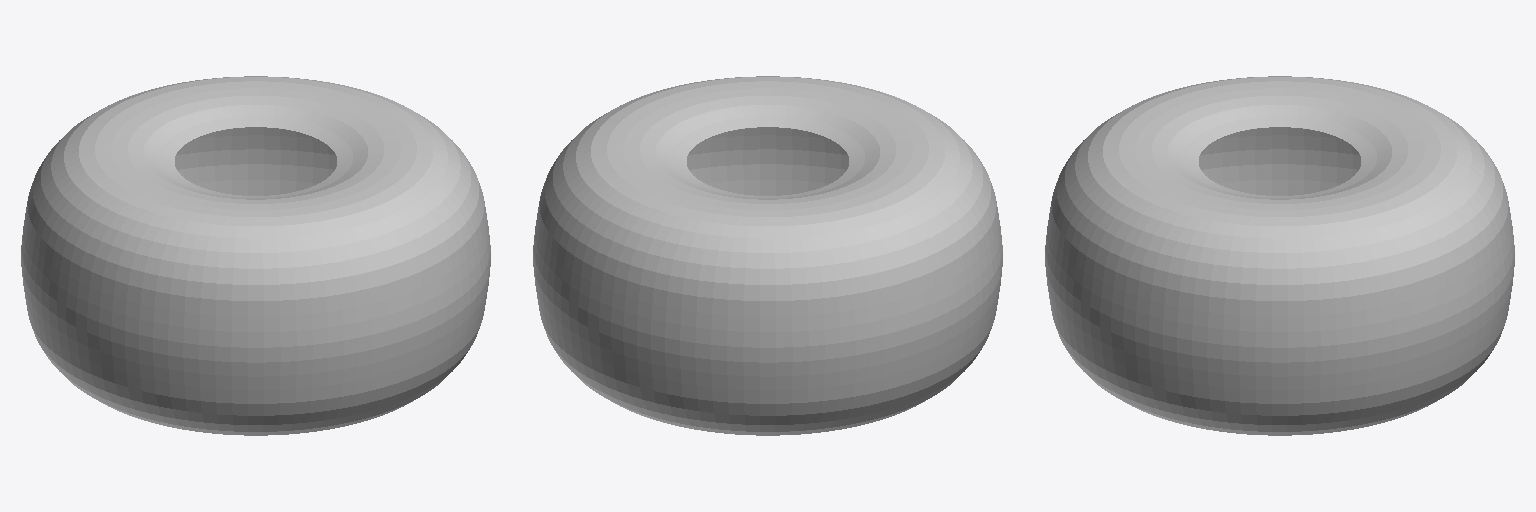
Rendered from gator_tireF_fine.obj.
3 views of the same model, side by side, from view 1: azimuth 30°, elevation 25°; view 2: azimuth 150°, elevation 25°; view 3: azimuth 270°, elevation 25° (orthographic).
Bounding box in the file's own units: 0.5558 × 0.279 × 0.5561.